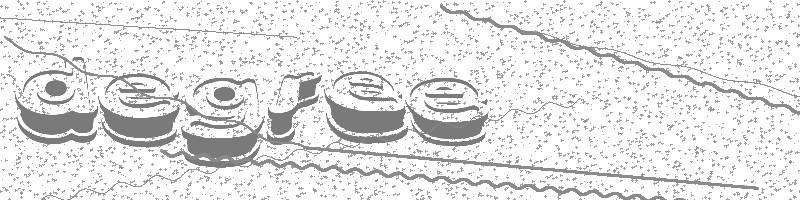d: (12, 54, 100, 142)
e: (326, 69, 409, 144), (100, 70, 180, 147), (408, 74, 490, 146)
g: (180, 73, 264, 170)
r: (268, 69, 324, 143)
